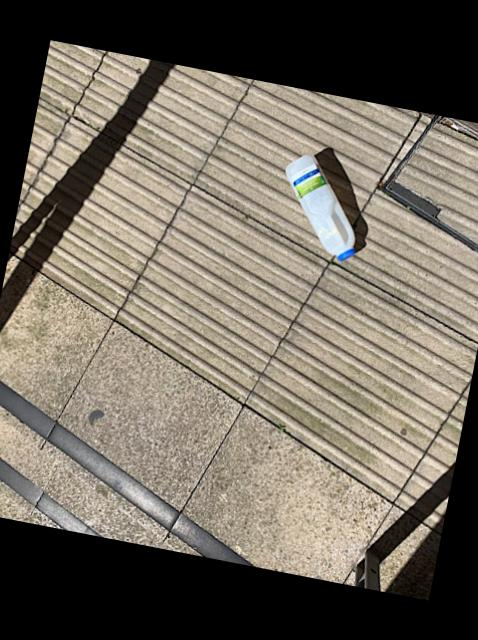plastic: (283, 155, 352, 260)
